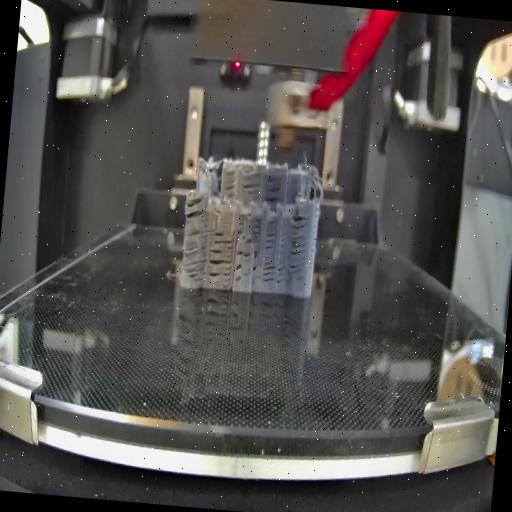cracks: (261, 217, 290, 286), (287, 214, 312, 278), (182, 227, 210, 281), (208, 246, 232, 286), (240, 172, 263, 200), (263, 174, 284, 204), (185, 194, 209, 220), (214, 228, 235, 248), (223, 170, 238, 198), (236, 246, 259, 260), (235, 212, 247, 237), (252, 213, 264, 237), (233, 262, 244, 286), (252, 262, 260, 287), (244, 237, 255, 246)
